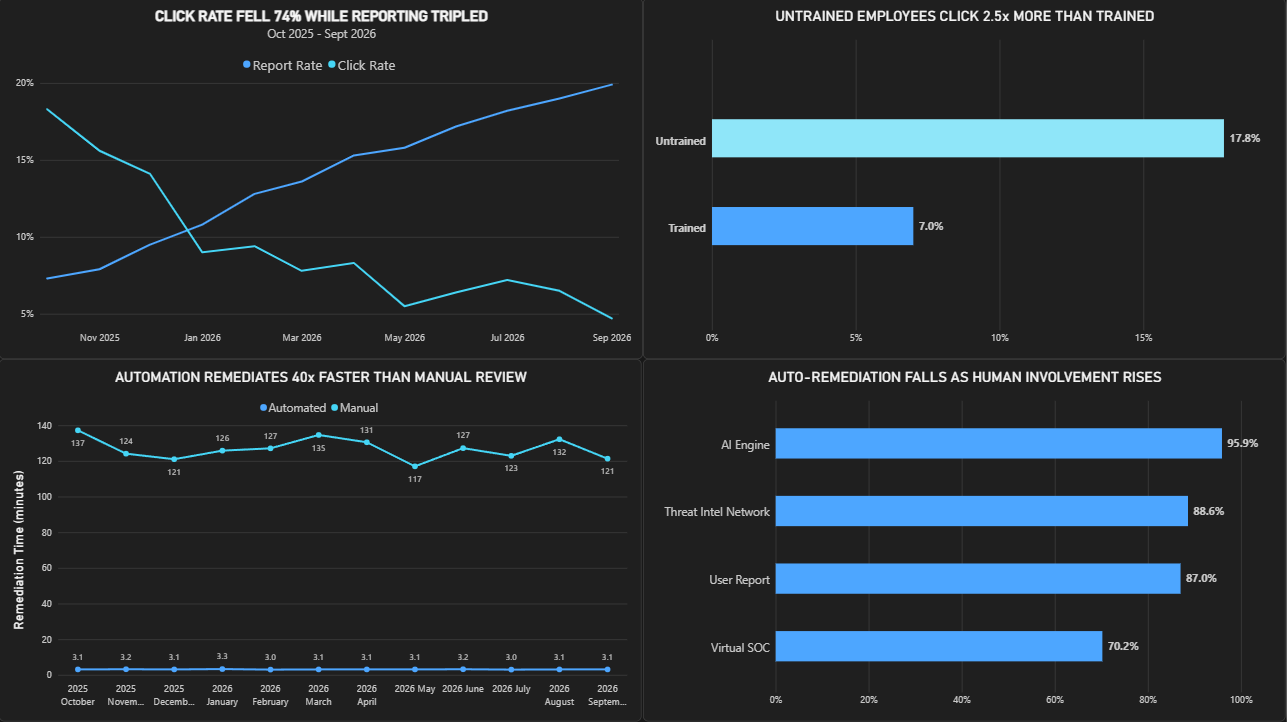

The dashboard page shown, as its layout file describes it:
{"tool":"powerbi","page":{"name":"Are Customers Getting Safer? (Viz 1)","canvas":[1920,1080],"ordinal":10},"visuals":[{"type":"lineChart","title":"CLICK RATE FELL 74% WHILE REPORTING TRIPLED","fields":{"Y":["Sum(Query 1.report_rate_percent)","Sum(Query 1.click_rate_percent)"],"Category":["Query 1.month.Variation.Date Hierarchy.Year","Query 1.month.Variation.Date Hierarchy.Quarter","Query 1.month.Variation.Date Hierarchy.Month","Query 1.month.Variation.Date Hierarchy.Day"]},"box":[0,0,960.6,539.4],"z":0},{"type":"clusteredBarChart","title":"UNTRAINED EMPLOYEES CLICK 2.5x MORE THAN TRAINED","fields":{"Category":["Query 3.training_status"],"Y":["Sum(Query 3.click_rate_percent)"]},"box":[960.6,0,959.1,539.4],"z":1000},{"type":"lineChart","title":"AUTOMATION REMEDIATES 40x FASTER THAN MANUAL REVIEW","fields":{"Series":["Query 5.remediation_method"],"Y":["Avg(Query 5.average_remediation_time)"],"Category":["Query 5.month.Variation.Date Hierarchy.Year","Query 5.month.Variation.Date Hierarchy.Month","Query 5.month.Variation.Date Hierarchy.Day"]},"box":[0,539.4,959.1,540.9],"z":2000},{"type":"clusteredBarChart","title":"AUTO-REMEDIATION FALLS AS HUMAN INVOLVEMENT RISES","fields":{"Category":["Query 6.detection_source"],"Y":["Sum(Query 6.auto_remediation_rate_percent)"]},"box":[960.6,539.4,959.1,540.9],"z":3000}]}

Visuals, with their boxes in screenshot pixels (x1, y1, x2, y2), scaled from the page's 1920x1080 canvas onto the 1287x722 screenshot:
"CLICK RATE FELL 74% WHILE REPORTING TRIPLED" lineChart: box=[0, 0, 644, 361]
"UNTRAINED EMPLOYEES CLICK 2.5x MORE THAN TRAINED" clusteredBarChart: box=[644, 0, 1286, 361]
"AUTOMATION REMEDIATES 40x FASTER THAN MANUAL REVIEW" lineChart: box=[0, 361, 643, 721]
"AUTO-REMEDIATION FALLS AS HUMAN INVOLVEMENT RISES" clusteredBarChart: box=[644, 361, 1286, 721]
